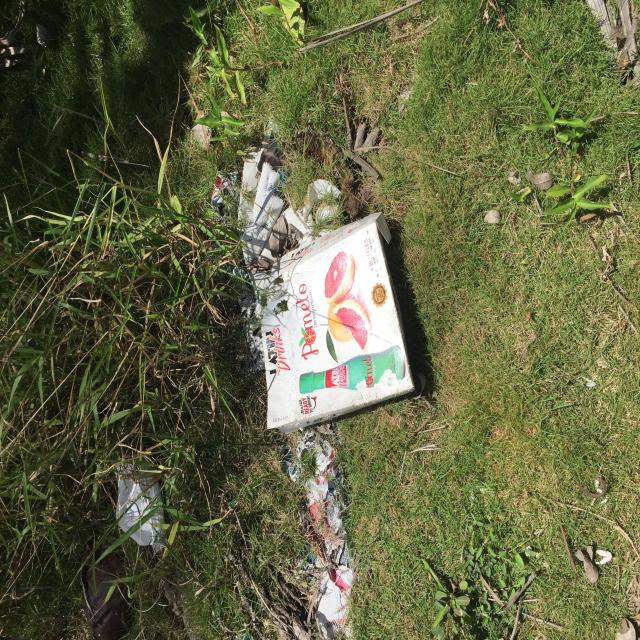litter: (257, 215, 418, 436)
